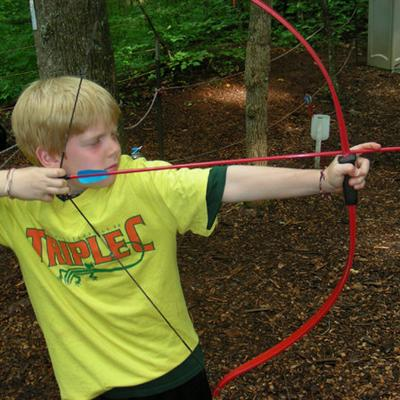person: (1, 72, 381, 400)
